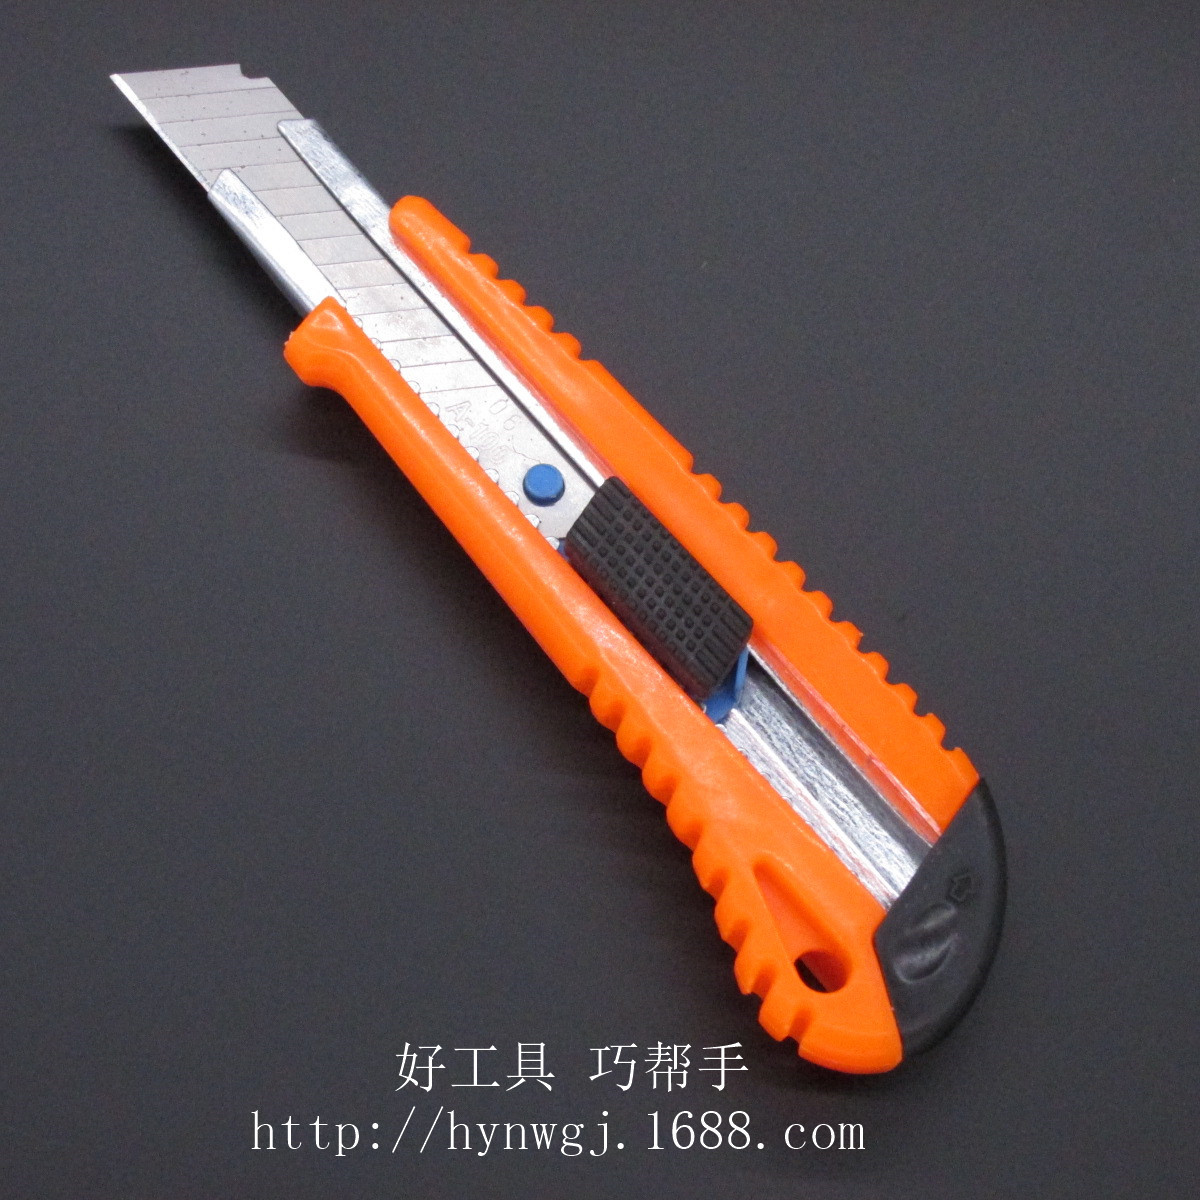cutter: (103, 62, 1010, 1082)
